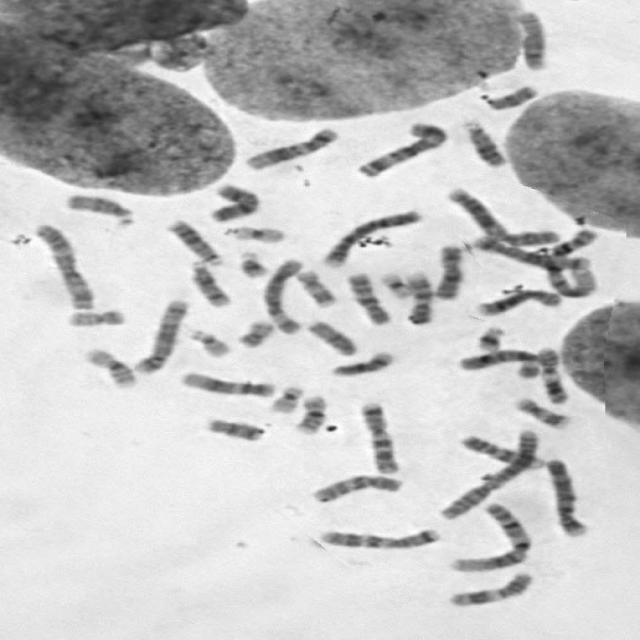A1: (444, 498, 535, 574), (537, 225, 603, 300)
A2: (434, 425, 543, 520), (442, 183, 563, 247)
A3: (350, 118, 452, 180), (28, 220, 96, 311)
B4: (315, 205, 424, 268), (540, 454, 590, 538)
B5: (127, 294, 191, 376), (468, 232, 592, 270)
C10: (306, 470, 406, 505), (340, 268, 394, 326)
C11: (441, 568, 536, 608), (532, 342, 572, 404)
C12: (240, 123, 342, 171), (175, 368, 279, 398)
C6: (256, 254, 308, 336), (454, 345, 543, 380)
C7: (352, 398, 403, 476), (311, 523, 443, 551)
C8: (472, 285, 564, 317), (512, 7, 552, 72)
C9: (454, 430, 547, 470), (399, 268, 436, 326)
D13: (161, 215, 226, 266), (455, 115, 510, 168)
D14: (184, 256, 233, 308), (326, 347, 398, 378)
D15: (59, 190, 139, 228), (300, 317, 360, 357)
E16: (78, 344, 140, 389), (286, 391, 330, 435)
E17: (506, 392, 574, 430), (290, 266, 339, 308)
E18: (198, 413, 268, 442), (481, 80, 541, 111)
F19: (217, 221, 289, 245), (375, 268, 414, 300)
F20: (61, 305, 128, 328), (232, 316, 278, 348)
G21: (233, 246, 273, 280), (469, 322, 508, 352)
G22: (182, 325, 234, 359), (262, 382, 306, 414)
X: (203, 180, 264, 223), (429, 240, 466, 301)
